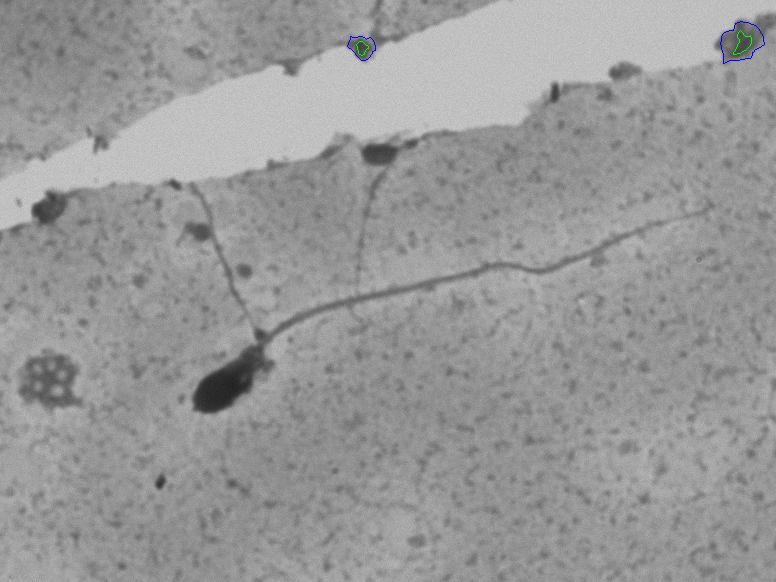Abnormal: (180, 168, 710, 453)
